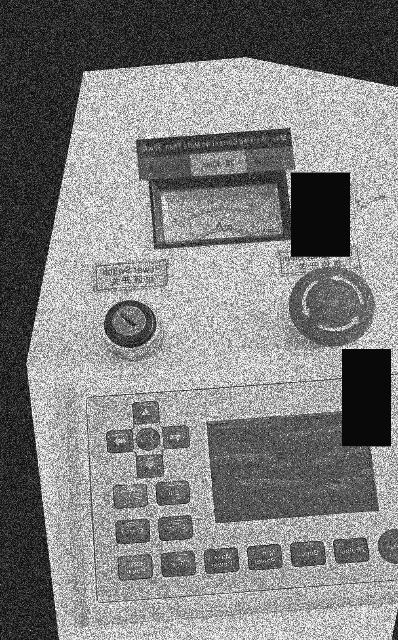Amp_Meter: (153, 184, 283, 244)
Display: (208, 414, 378, 522)
Down_button: (137, 455, 164, 478)
Emergency_Stop: (290, 267, 374, 346)
Enter_button: (114, 484, 148, 509)
Esc_button: (156, 481, 190, 505)
File_button: (161, 551, 196, 577)
Frame_button: (116, 519, 150, 544)
Left_button: (163, 426, 190, 449)
Max-Power_button: (204, 548, 239, 574)
Min-Power_button: (247, 544, 282, 570)
Origin_button: (159, 516, 192, 541)
Power_switch: (104, 301, 156, 348)
Pulse_button: (334, 538, 369, 563)
Reset_button: (379, 530, 398, 563)
Right_button: (106, 430, 133, 453)
Speed_button: (290, 542, 326, 567)
Start-Pause_button: (118, 555, 152, 580)
Up_button: (133, 401, 160, 424)
Z_U_button: (136, 428, 160, 450)
